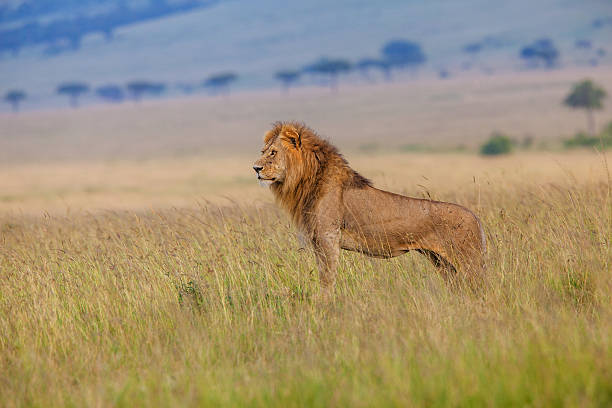lion: (243, 110, 359, 224)
